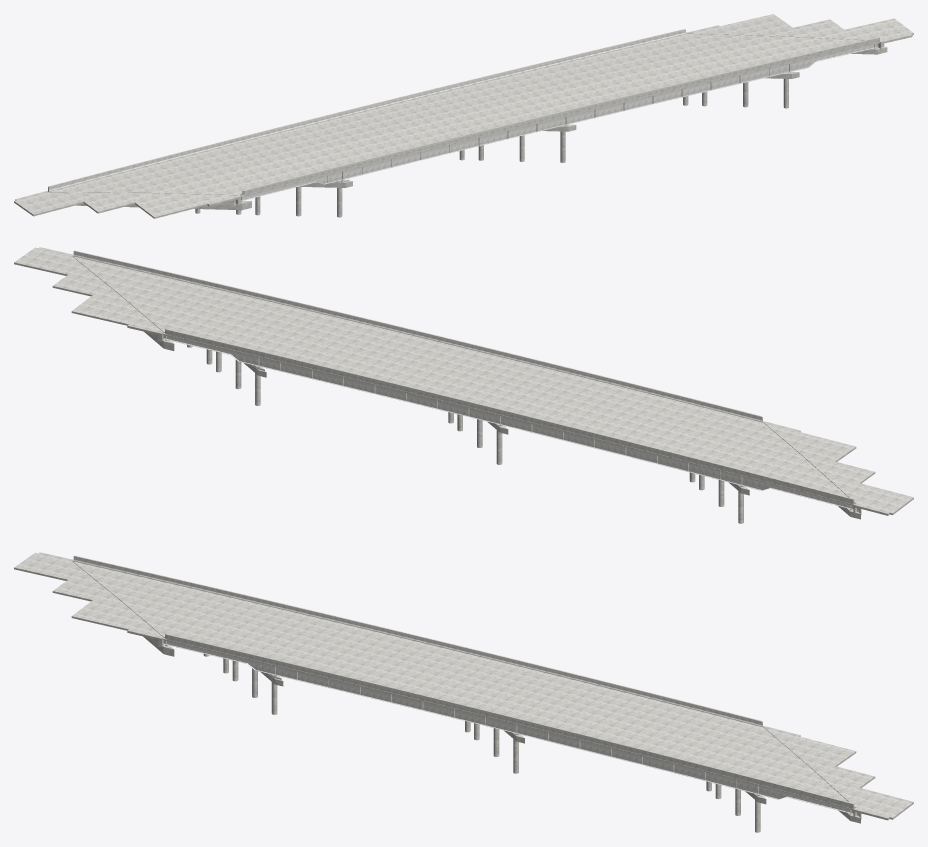
Rendered from model_render.glb.
The picture shows the model from 3 angles, top to bottom: view 1: azimuth 30°, elevation 25°; view 2: azimuth 150°, elevation 25°; view 3: azimuth 330°, elevation 25°; orthographic projection. The views are drawn at different scales.
Visible parts, largest first — view 1: deck, plate_2_0, plate_1_0, rcba_-1_0, rcba_-1_2, rcba_1_0, rcba_1_2, rail_1_1, rail_1_2, rail_1_3, rail_1_0, rail_-1_0 (+7 smaller); view 2: deck, plate_2_7, plate_1_7, rcba_1_2, rcba_-1_2, rcba_1_0, rcba_-1_0, rail_-1_0, rail_-1_1, rail_-1_2, rail_-1_3, rail_1_3 (+6 smaller); view 3: deck, plate_1_0, plate_2_0, rcba_-1_0, rcba_1_0, rcba_1_2, rcba_-1_2, rail_1_3, rail_1_1, rail_1_2, rail_1_0, rail_-1_0 (+6 smaller).
Boxes of the visible parts, x1,y1,x2,y2 form: deck: (48, 34, 879, 197); plate_2_0: (566, 64, 789, 124); plate_1_0: (343, 117, 565, 179); rcba_-1_0: (135, 194, 235, 218); rcba_-1_2: (14, 192, 114, 216); rcba_1_0: (813, 18, 913, 40); rcba_1_2: (692, 14, 792, 34); rail_1_1: (204, 106, 367, 150); rail_1_2: (365, 67, 527, 110); rail_1_3: (524, 29, 687, 71); rail_1_0: (48, 146, 207, 191); rail_-1_0: (240, 150, 404, 195); deck: (73, 256, 854, 505); plate_2_7: (259, 357, 499, 424); plate_1_7: (500, 416, 741, 485); rcba_1_2: (71, 295, 159, 331); rcba_-1_2: (826, 474, 913, 514); rcba_1_0: (14, 247, 101, 282); rcba_-1_0: (768, 424, 856, 461); rail_-1_0: (589, 373, 763, 422); rail_-1_1: (416, 330, 590, 378); rail_-1_2: (243, 289, 417, 336); rail_-1_3: (73, 250, 244, 295); rail_1_3: (164, 328, 339, 374); deck: (73, 561, 854, 809); plate_1_0: (275, 666, 516, 733); plate_2_0: (517, 725, 758, 794); rcba_-1_0: (71, 600, 159, 636); rcba_1_0: (826, 779, 913, 819); rcba_1_2: (768, 728, 856, 766); rcba_-1_2: (14, 552, 101, 587); rail_1_3: (589, 677, 763, 727); rail_1_1: (243, 594, 417, 641); rail_1_2: (416, 635, 590, 683); rail_1_0: (73, 555, 244, 600); rail_-1_0: (164, 633, 339, 679).
Size of the model in its own units: 167 by 9.94 by 19.36.
4 materials, 3 textured.
